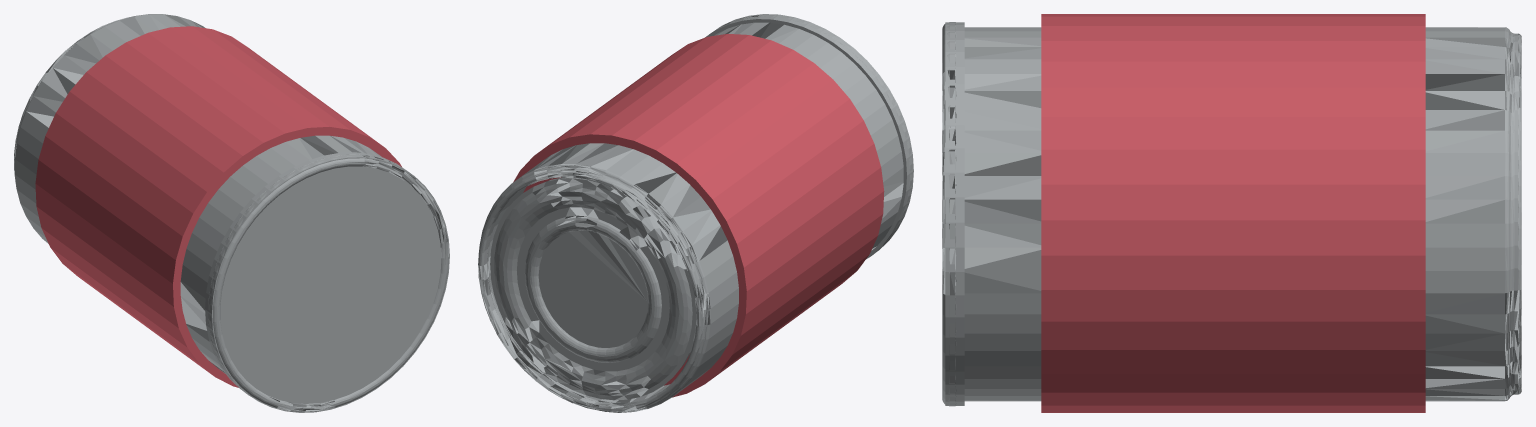
Rendered from food_can_model.glb.
The picture shows the model from 3 angles, left to right: view 1: azimuth 30°, elevation 25°; view 2: azimuth 150°, elevation 25°; view 3: azimuth 270°, elevation 25°; orthographic projection. The views are drawn at different scales.
Parts seen in each view (by area): view 1: obj_1, obj_2, obj_0; view 2: obj_0, obj_1, obj_2; view 3: obj_1, obj_0, obj_2.
Boxes of the visible parts, x1,y1,x2,y2 form: obj_1: (35, 26, 401, 387); obj_2: (205, 152, 449, 412); obj_0: (14, 14, 448, 411); obj_0: (478, 15, 912, 412); obj_1: (513, 34, 884, 397); obj_2: (705, 14, 913, 259); obj_1: (1041, 14, 1425, 412); obj_0: (942, 22, 1521, 406); obj_2: (945, 22, 964, 405).
Bounding box in the file's own units: 5.19 × 5.19 × 7.54.
